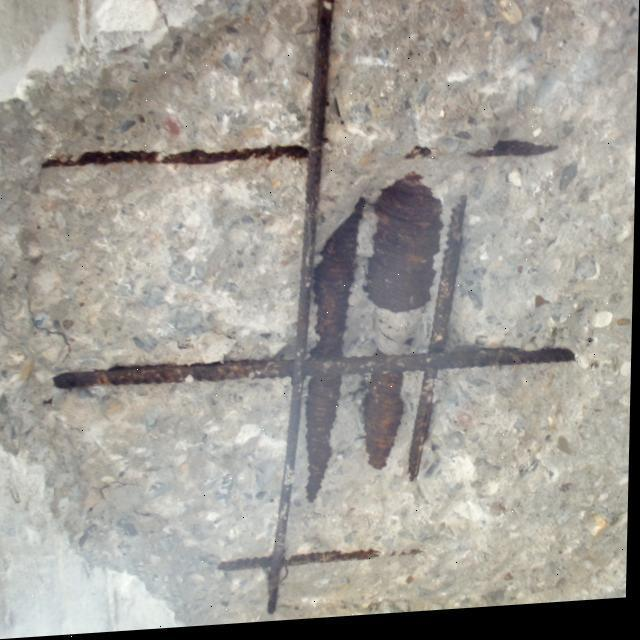D0w0: (2, 2, 589, 621), (2, 0, 413, 629)
